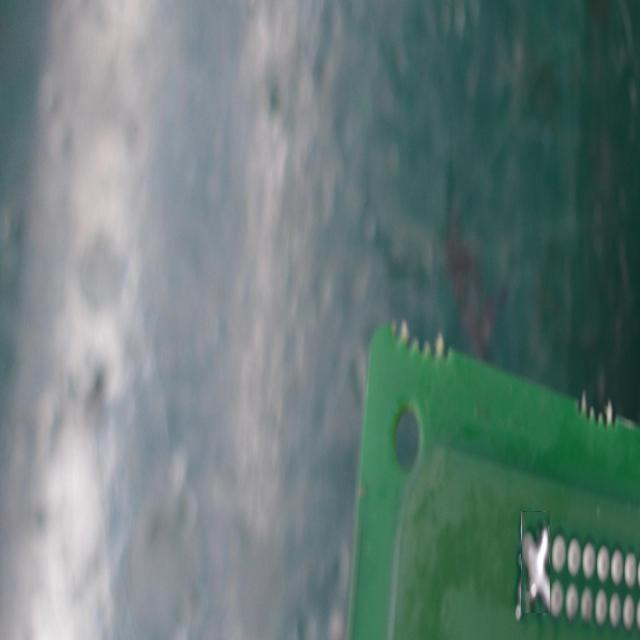Short_circuit: (521, 511, 550, 613)
